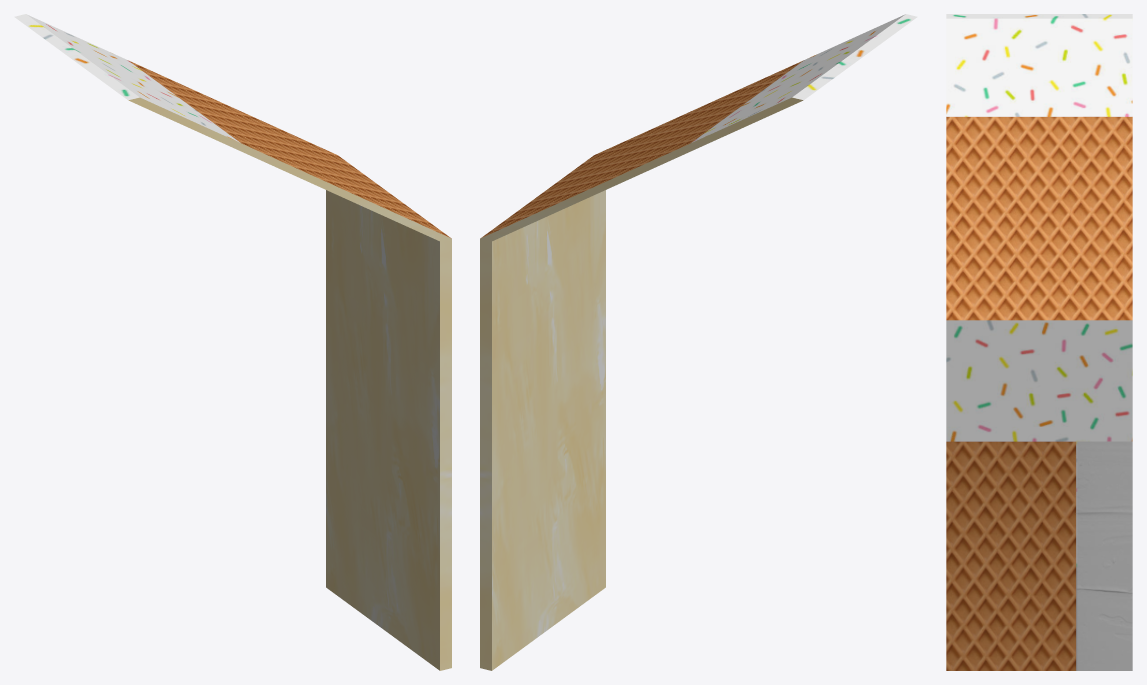
File: House1Wall.fbx
3 renders of one model, left to right at view 1: azimuth 30°, elevation 25°; view 2: azimuth 150°, elevation 25°; view 3: azimuth 270°, elevation 25°, orthographic. The views are drawn at different scales.
Parts seen in each view (by area): view 1: pCube1; view 2: pCube1; view 3: pCube1.
Boxes of the visible parts, x1,y1,x2,y2 form: pCube1: (14, 14, 451, 670); pCube1: (480, 14, 917, 670); pCube1: (946, 14, 1132, 670).
Bounding box in the file's own units: 4.68 × 8.93 × 2.85.
Materials: 1 (1 with a texture image).
